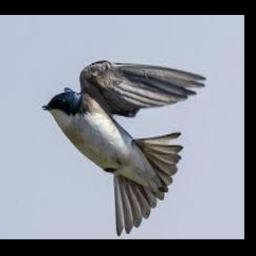Swallow: (42, 60, 206, 235)
